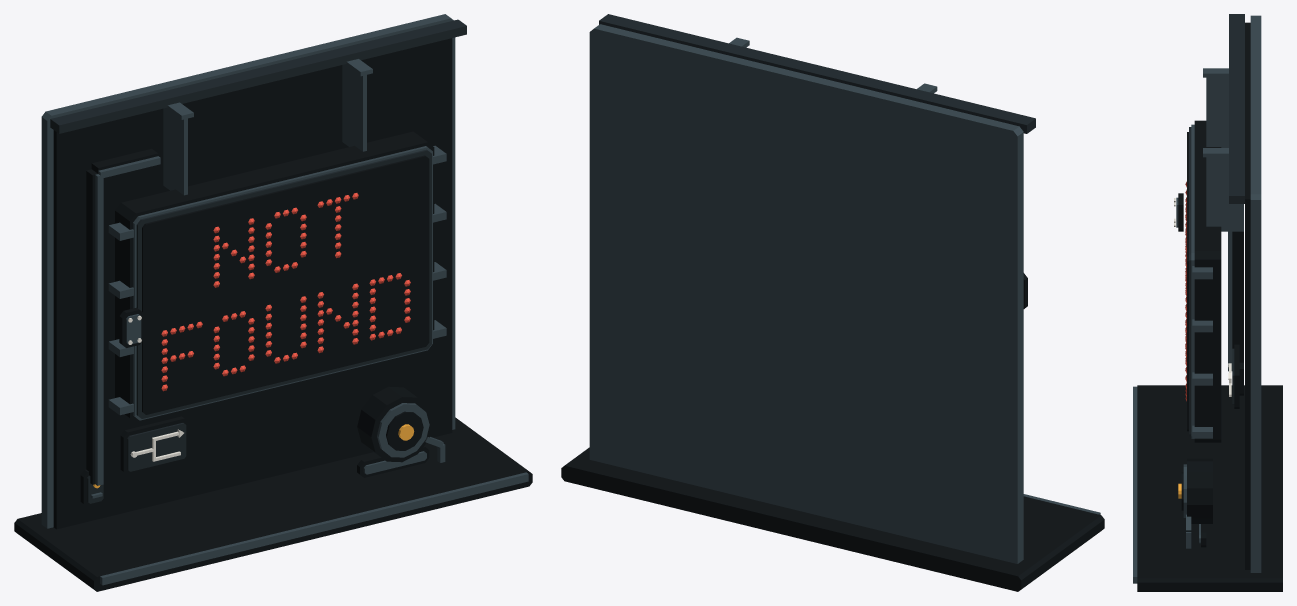
3 views of the same model, side by side, from view 1: azimuth 30°, elevation 25°; view 2: azimuth 150°, elevation 25°; view 3: azimuth 270°, elevation 25° (orthographic). The views are drawn at different scales.
Visible parts, largest first — view 1: Exit Liquidity sign; view 2: Exit Liquidity sign; view 3: Exit Liquidity sign.
Boxes of the visible parts, x1=… form: Exit Liquidity sign: x1=14, y1=14, x2=532, y2=591; Exit Liquidity sign: x1=561, y1=14, x2=1104, y2=591; Exit Liquidity sign: x1=1133, y1=14, x2=1282, y2=591.
Bounding box in the file's own units: 1.08 × 1 × 0.3475.
